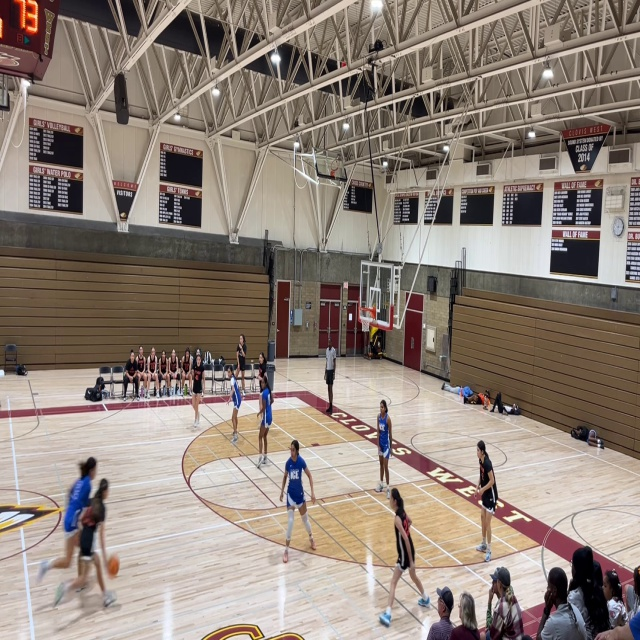Basketball: (106, 554, 119, 577)
